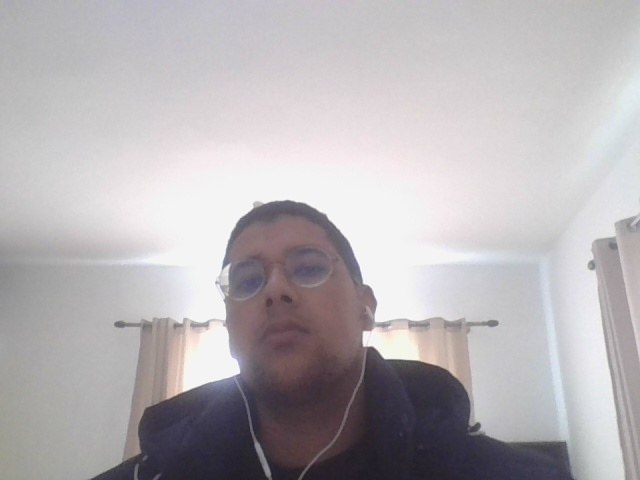real: (217, 176, 375, 400)
